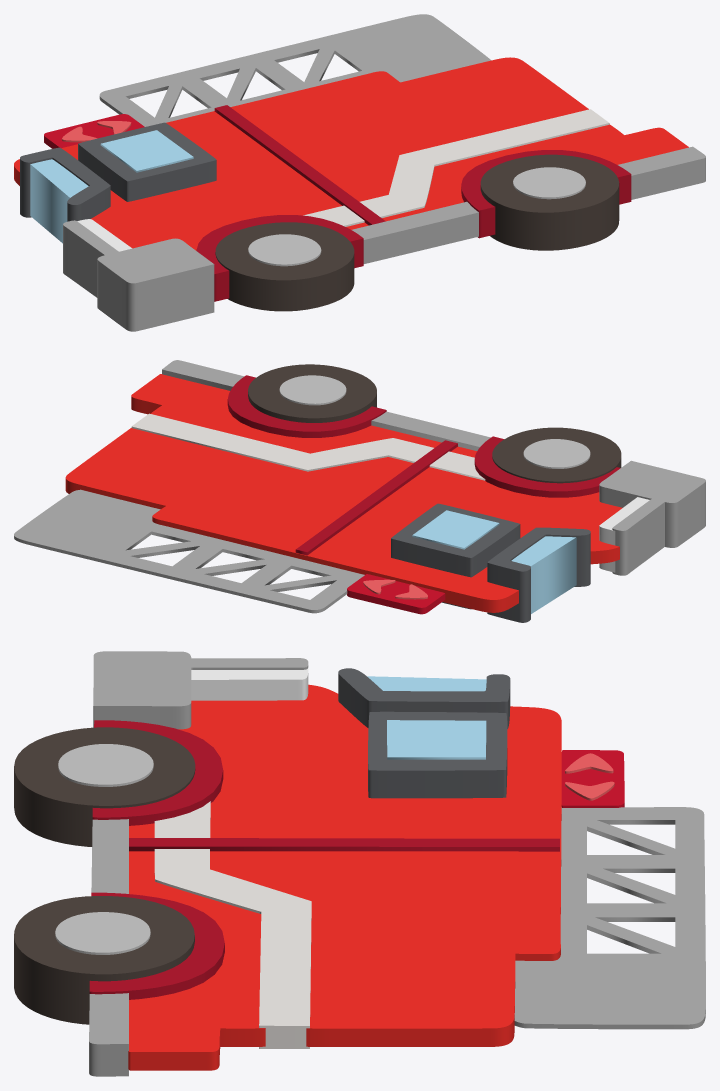
The model's file is emoji_u1f692.glb.
3 views of the same model, one above another, from view 1: azimuth 30°, elevation 25°; view 2: azimuth 150°, elevation 25°; view 3: azimuth 270°, elevation 25° (orthographic). The views are drawn at different scales.
Parts seen in each view (by area): view 1: emoji_u1f692; view 2: emoji_u1f692; view 3: emoji_u1f692.
Boxes of the visible parts, left/top/right/bottom form: emoji_u1f692: left=14, top=14, right=705, bottom=331; emoji_u1f692: left=14, top=360, right=705, bottom=622; emoji_u1f692: left=14, top=651, right=705, bottom=1076.
Bounding box in the file's own units: 0.035 × 0.0034 × 0.0271.
